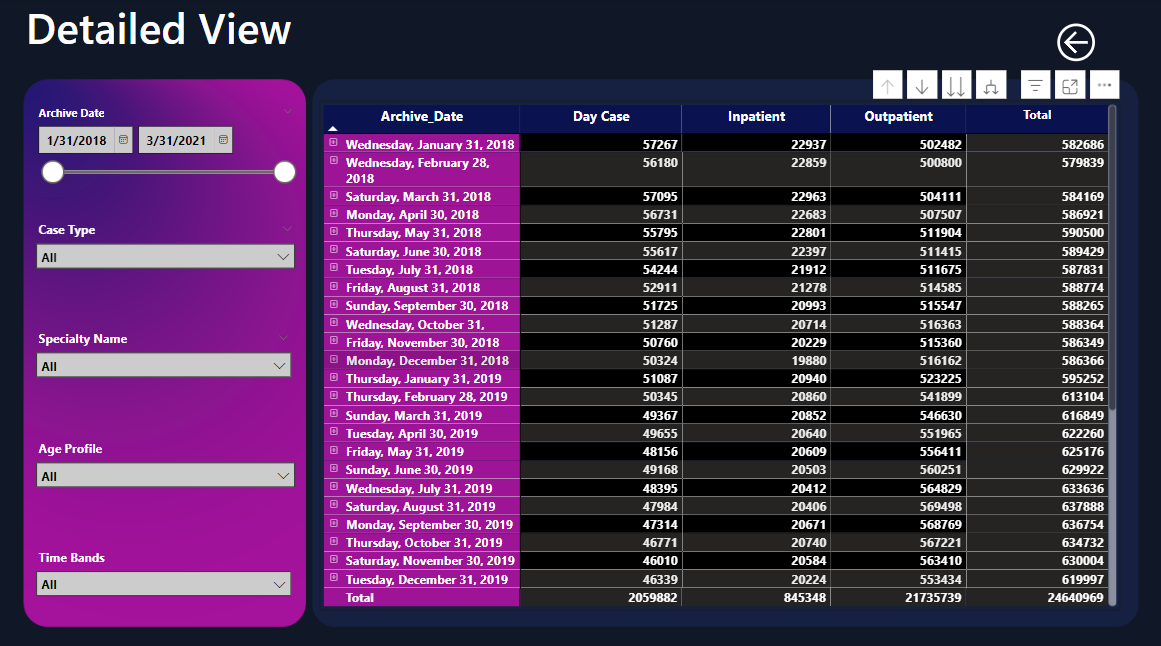

The page's visual inventory and layout, read from the dashboard file:
{"tool":"powerbi","page":{"name":"Detials","canvas":[1280,720],"ordinal":1},"visuals":[{"type":"slicer","fields":{"Values":["All Data.Archive_Date"]},"box":[32,112,304,96],"z":0},{"type":"slicer","fields":{"Values":["All Data.Specialty_Name"]},"box":[32,360,300,70],"z":1000},{"type":"slicer","fields":{"Values":["All Data.Case_Type"]},"box":[32,240,304,80],"z":2000},{"type":"slicer","fields":{"Values":["All Data.Age_Profile"]},"box":[32,480,304,70],"z":3000},{"type":"slicer","fields":{"Values":["All Data.Time_Bands"]},"box":[32,600,300,70],"z":4000},{"type":"pivotTable","fields":{"Rows":["All Data.Archive_Date","All Data.Specialty_Name","All Data.Age_Profile","All Data.Time_Bands"],"Columns":["All Data.Case_Type"],"Values":["Sum(All Data.Total)"]},"box":[352,112,880,560],"z":5000},{"type":"textbox","title":"Detailed View","box":[16,0,320,96],"z":6000},{"type":"actionButton","box":[1156.8,22,113.9,53.5],"z":6001}]}

Visuals, with their boxes in screenshot pixels (x1, y1, x2, y2), scaled from the page's 1280x720 canvas onto the 1161x646 screenshot:
slicer - All Data.Archive_Date: locate(29, 100, 305, 187)
slicer - All Data.Specialty_Name: locate(29, 323, 301, 386)
slicer - All Data.Case_Type: locate(29, 215, 305, 287)
slicer - All Data.Age_Profile: locate(29, 431, 305, 493)
slicer - All Data.Time_Bands: locate(29, 538, 301, 601)
pivotTable - All Data.Archive_Date x All Data.Specialty_Name: locate(319, 100, 1117, 603)
"Detailed View" textbox: locate(15, 0, 305, 86)
actionButton: locate(1049, 20, 1153, 68)
